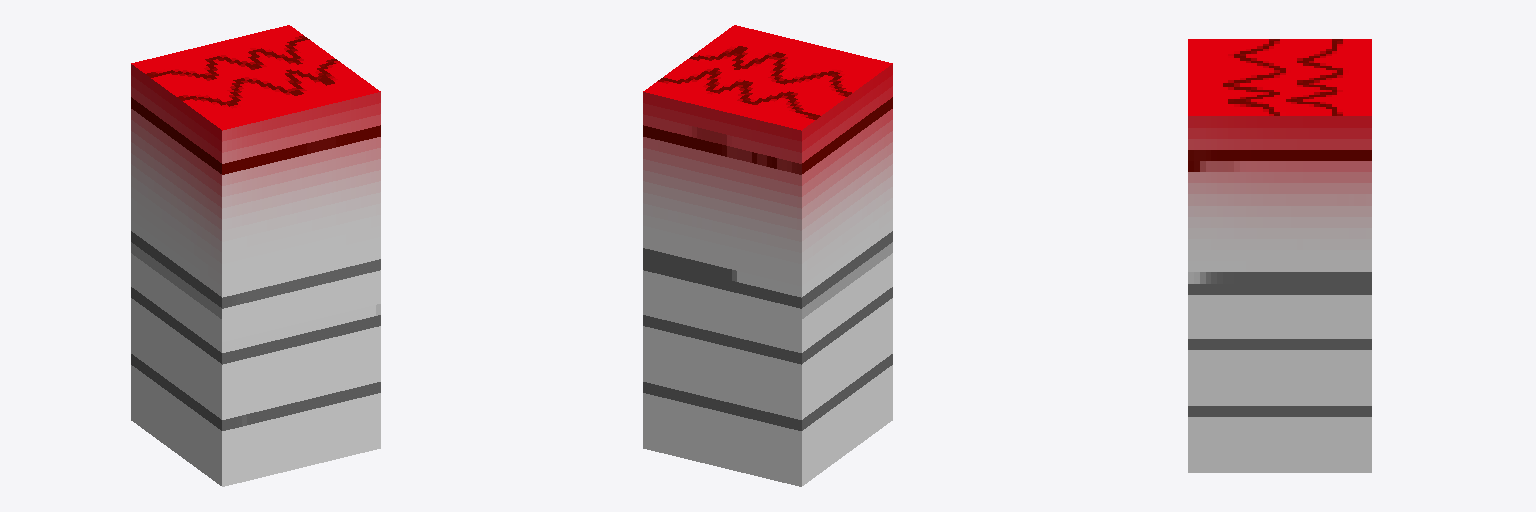
3 renders of one model, left to right at view 1: azimuth 30°, elevation 25°; view 2: azimuth 150°, elevation 25°; view 3: azimuth 270°, elevation 25°, orthographic.
Visible parts, largest first — view 1: 1; view 2: 1; view 3: 1.
Boxes of the visible parts, x1,y1,x2,y2 form: 1: [131, 25, 380, 486]; 1: [643, 25, 892, 486]; 1: [1188, 39, 1371, 472].
Size of the model in its own units: 2 by 4.3 by 2.
Materials: 1 (1 with a texture image).